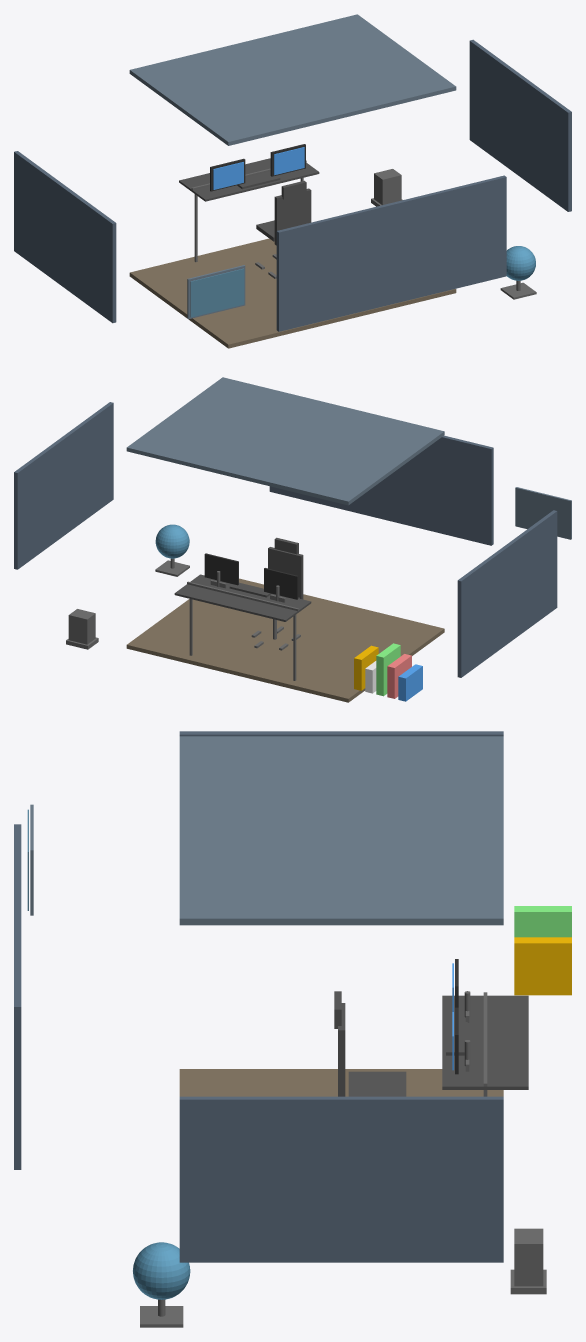
File: baked_kai_room.glb
3 renders of one model, top to bottom at view 1: azimuth 30°, elevation 25°; view 2: azimuth 150°, elevation 25°; view 3: azimuth 270°, elevation 25°, orthographic. The views are drawn at different scales.
Visible parts, largest first — view 1: BackWall, Ceiling, LeftWall, RightWall, Floor, MapContent, Desk_Kai, ChairBack, Globe, CoffeeMachine, MonitorScreen_0.001, MonitorScreen_0 (+1 smaller); view 2: Ceiling, Floor, BackWall, LeftWall, RightWall, Desk_Kai, MapFrame, Globe, ChairBack, CoffeeMachine, Monitor_0, Monitor_0.001 (+4 smaller); view 3: Ceiling, RightWall, Desk_Kai, Floor, Book_4, BackWall, Globe, LeftWall, Book_2, CoffeeMachine, ChairSeat, GlobeBase.
Boxes of the visible parts, x1=… form: BackWall: x1=276, y1=175, x2=506, y2=331; Ceiling: x1=129, y1=14, x2=456, y2=145; LeftWall: x1=14, y1=151, x2=116, y2=323; RightWall: x1=469, y1=39, x2=571, y2=211; Floor: x1=129, y1=238, x2=456, y2=348; MapContent: x1=190, y1=268, x2=244, y2=317; Desk_Kai: x1=179, y1=158, x2=319, y2=201; ChairBack: x1=274, y1=188, x2=311, y2=245; Globe: x1=506, y1=246, x2=535, y2=280; CoffeeMachine: x1=374, y1=169, x2=401, y2=204; MonitorScreen_0.001: x1=274, y1=147, x2=304, y2=175; MonitorScreen_0: x1=213, y1=162, x2=243, y2=189; Ceiling: x1=126, y1=377, x2=444, y2=505; Floor: x1=126, y1=578, x2=444, y2=702; BackWall: x1=269, y1=435, x2=493, y2=545; LeftWall: x1=457, y1=510, x2=557, y2=677; RightWall: x1=14, y1=402, x2=113, y2=569; Desk_Kai: x1=174, y1=574, x2=311, y2=621; MapFrame: x1=515, y1=487, x2=571, y2=539; Globe: x1=155, y1=524, x2=189, y2=558; ChairBack: x1=268, y1=547, x2=303, y2=599; CoffeeMachine: x1=68, y1=609, x2=95, y2=644; Monitor_0: x1=264, y1=568, x2=298, y2=599; Monitor_0.001: x1=204, y1=553, x2=238, y2=585; Ceiling: x1=179, y1=736, x2=503, y2=925; RightWall: x1=179, y1=1096, x2=503, y2=1262; Desk_Kai: x1=442, y1=995, x2=528, y2=1089; Floor: x1=179, y1=1069, x2=503, y2=1096; Book_4: x1=514, y1=937, x2=571, y2=995; BackWall: x1=14, y1=824, x2=21, y2=1169; Globe: x1=133, y1=1242, x2=190, y2=1299; LeftWall: x1=179, y1=731, x2=503, y2=736; Book_2: x1=514, y1=906, x2=571, y2=937; CoffeeMachine: x1=514, y1=1228, x2=543, y2=1286; ChairSeat: x1=348, y1=1071, x2=406, y2=1096; GlobeBase: x1=140, y1=1306, x2=183, y2=1327.
Size of the model in its own units: 1210 by 542 by 775.
